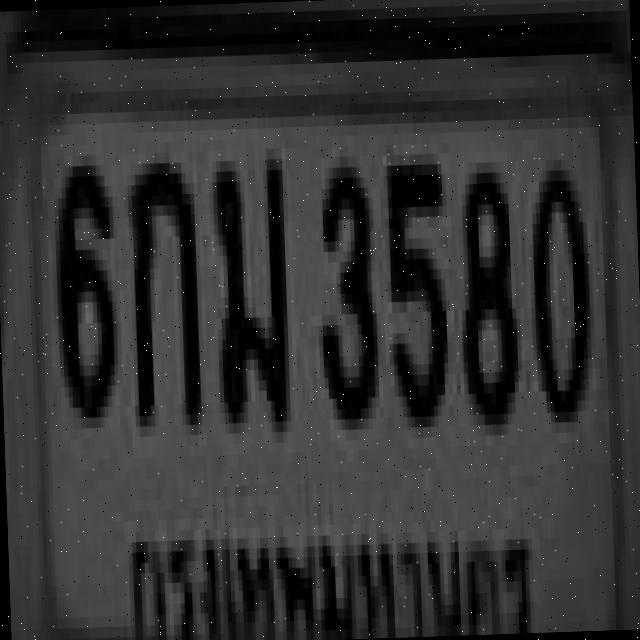0: (526, 153, 589, 407)
10GorGai: (126, 151, 197, 416)
3: (312, 156, 376, 420)
42MorMa: (208, 148, 286, 424)
5: (382, 153, 446, 417)
6: (48, 150, 115, 413)
8: (452, 156, 516, 410)
Bangkok: (112, 490, 542, 640)
